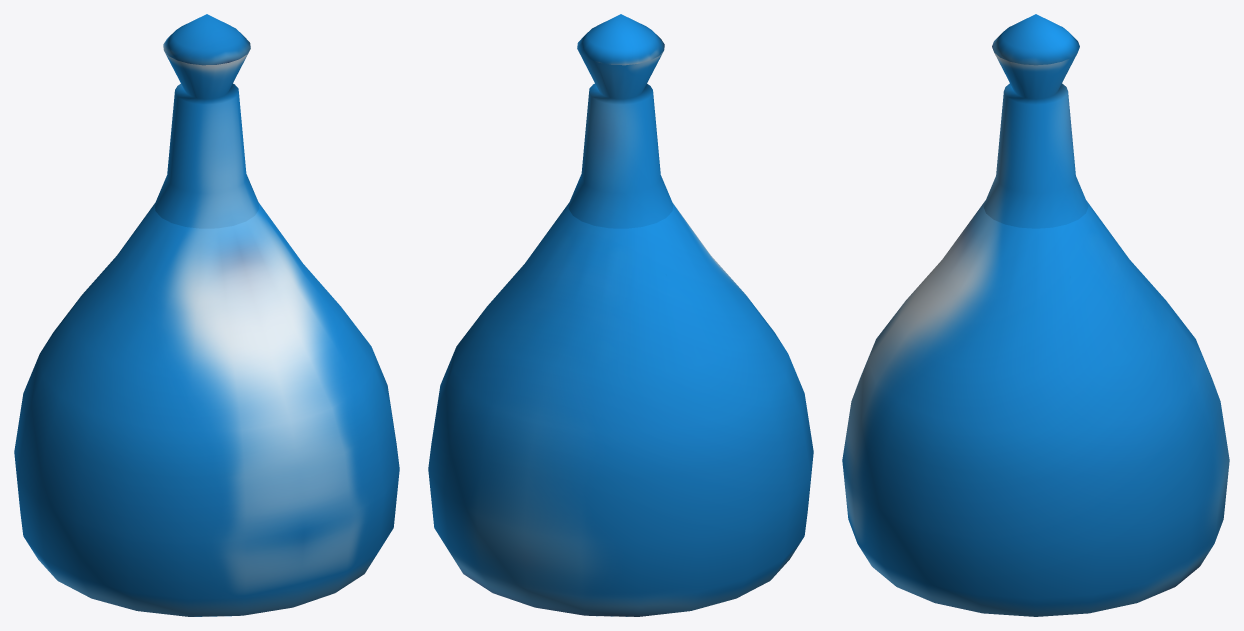
File: potion1.fbx
3 renders of one model, left to right at view 1: azimuth 30°, elevation 25°; view 2: azimuth 150°, elevation 25°; view 3: azimuth 270°, elevation 25°, orthographic.
Visible parts, largest first — view 1: pCylinder1; view 2: pCylinder1; view 3: pCylinder1.
Boxes of the visible parts, x1,y1,x2,y2 form: pCylinder1: (14,14,399,616); pCylinder1: (428,14,813,616); pCylinder1: (842,14,1229,616).
Bounding box in the file's own units: 2.35 × 3.78 × 2.35.
